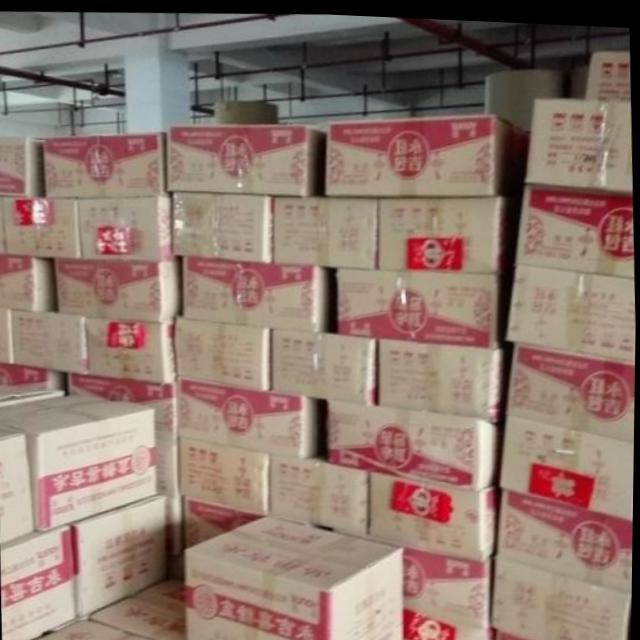box: (190, 512, 405, 640), (0, 390, 158, 531), (325, 108, 526, 194), (328, 396, 501, 485), (339, 259, 517, 342), (68, 368, 181, 490), (500, 412, 635, 514), (499, 484, 634, 585), (507, 336, 636, 437), (491, 549, 633, 640), (67, 494, 169, 617), (507, 259, 636, 355), (163, 121, 325, 194), (370, 465, 503, 553), (183, 255, 338, 326), (516, 178, 634, 271), (178, 375, 319, 452), (378, 332, 509, 414), (377, 193, 520, 267), (526, 91, 633, 189), (3, 522, 79, 640), (268, 446, 372, 531), (40, 132, 168, 198), (56, 255, 187, 319), (269, 324, 378, 400), (402, 540, 497, 622), (272, 192, 380, 262), (174, 311, 274, 386), (178, 433, 270, 511), (170, 188, 271, 258), (90, 572, 187, 640), (83, 313, 179, 381), (78, 194, 172, 256), (184, 493, 270, 556), (10, 308, 84, 371), (2, 197, 80, 256), (0, 423, 34, 543), (404, 602, 499, 640), (0, 252, 55, 314), (34, 614, 165, 640), (0, 135, 42, 196), (0, 360, 68, 393), (588, 44, 629, 95), (158, 491, 184, 555), (0, 308, 16, 360), (496, 625, 543, 640), (0, 384, 46, 395), (0, 196, 7, 253)
